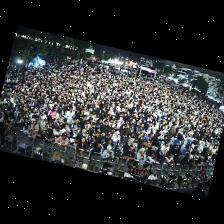person: (88, 141, 103, 165), (158, 141, 169, 162), (171, 135, 183, 153), (76, 137, 88, 155), (55, 133, 69, 146), (152, 136, 163, 152), (41, 129, 54, 142), (122, 146, 134, 160), (137, 137, 148, 152), (180, 145, 190, 161), (102, 146, 114, 159), (146, 150, 157, 162), (112, 131, 120, 147), (70, 125, 79, 139), (165, 153, 174, 167), (124, 139, 135, 150), (125, 125, 135, 137), (88, 131, 96, 146), (136, 149, 146, 161), (113, 145, 121, 159), (40, 115, 47, 131), (53, 126, 61, 140), (13, 119, 23, 130), (167, 127, 176, 139), (97, 131, 105, 144), (51, 118, 61, 128), (104, 138, 113, 149), (180, 155, 189, 166), (118, 125, 125, 139), (124, 133, 132, 145), (31, 120, 39, 132), (48, 107, 56, 119), (170, 134, 177, 147), (23, 123, 30, 136), (195, 156, 204, 166), (28, 128, 36, 139), (24, 114, 32, 125), (68, 138, 77, 147), (173, 153, 180, 164), (117, 118, 124, 129), (180, 141, 187, 152), (62, 124, 70, 133), (8, 120, 15, 130), (118, 140, 123, 154), (189, 150, 196, 159), (187, 158, 194, 167), (82, 129, 88, 139), (24, 118, 31, 126), (45, 124, 53, 130), (203, 158, 209, 166), (105, 130, 111, 138), (194, 153, 200, 160), (65, 130, 70, 138), (208, 159, 213, 166)
